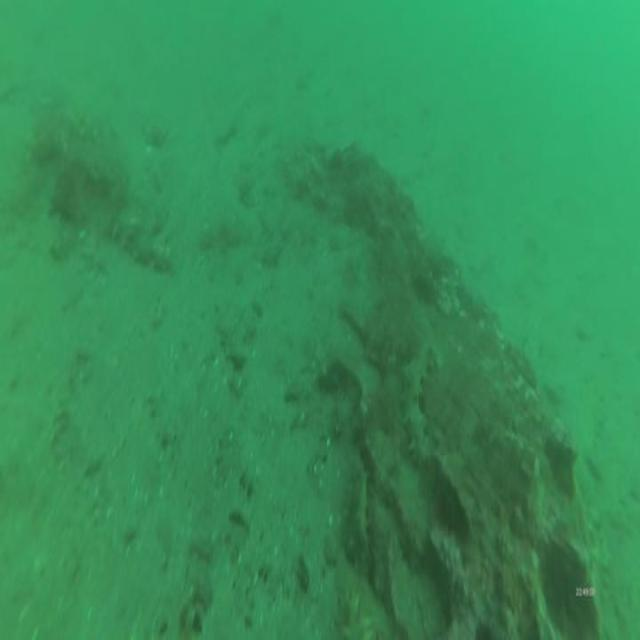holothurian: (102, 199, 174, 283), (397, 344, 435, 470), (342, 458, 374, 577), (60, 100, 122, 148), (332, 589, 378, 640)
